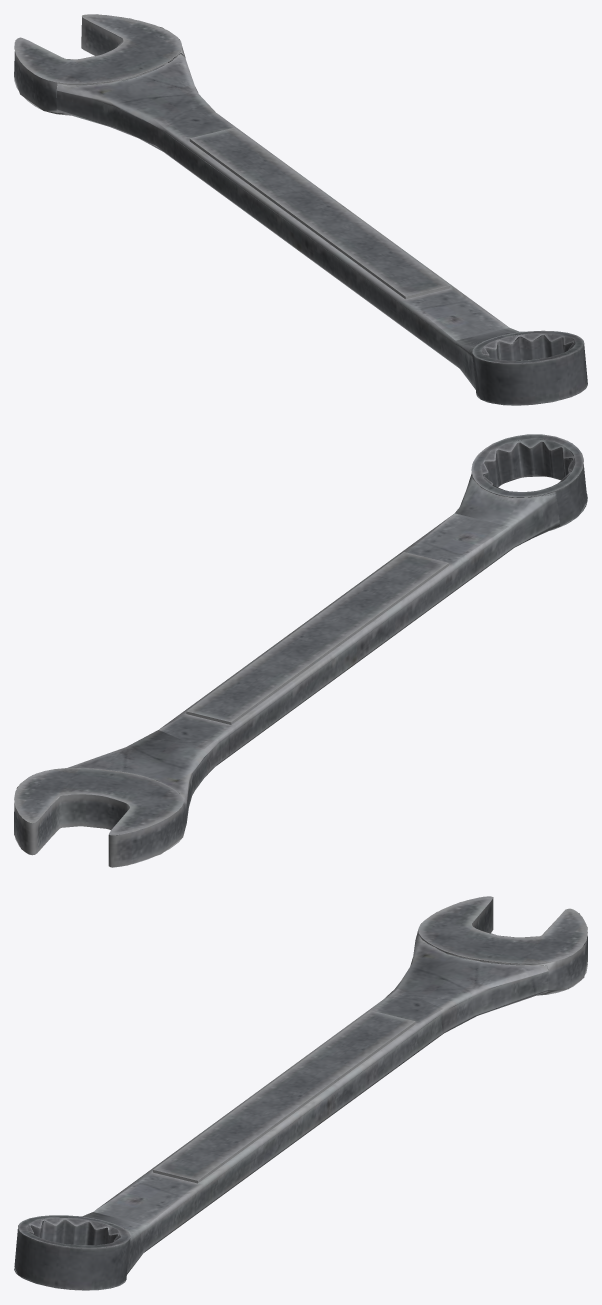
File: combination_wrench.glb
3 renders of one model, top to bottom at view 1: azimuth 30°, elevation 25°; view 2: azimuth 150°, elevation 25°; view 3: azimuth 330°, elevation 25°, orthographic.
Visible parts, largest first — view 1: combination_wrench; view 2: combination_wrench; view 3: combination_wrench.
Part boxes in pixels (x1,y1,x2,y2): combination_wrench: (14,14,587,405); combination_wrench: (14,434,587,867); combination_wrench: (14,896,587,1290).
Bounding box in the file's own units: 0.0566 × 0.0214 × 0.3371.
Materials: 1 (1 with a texture image).
